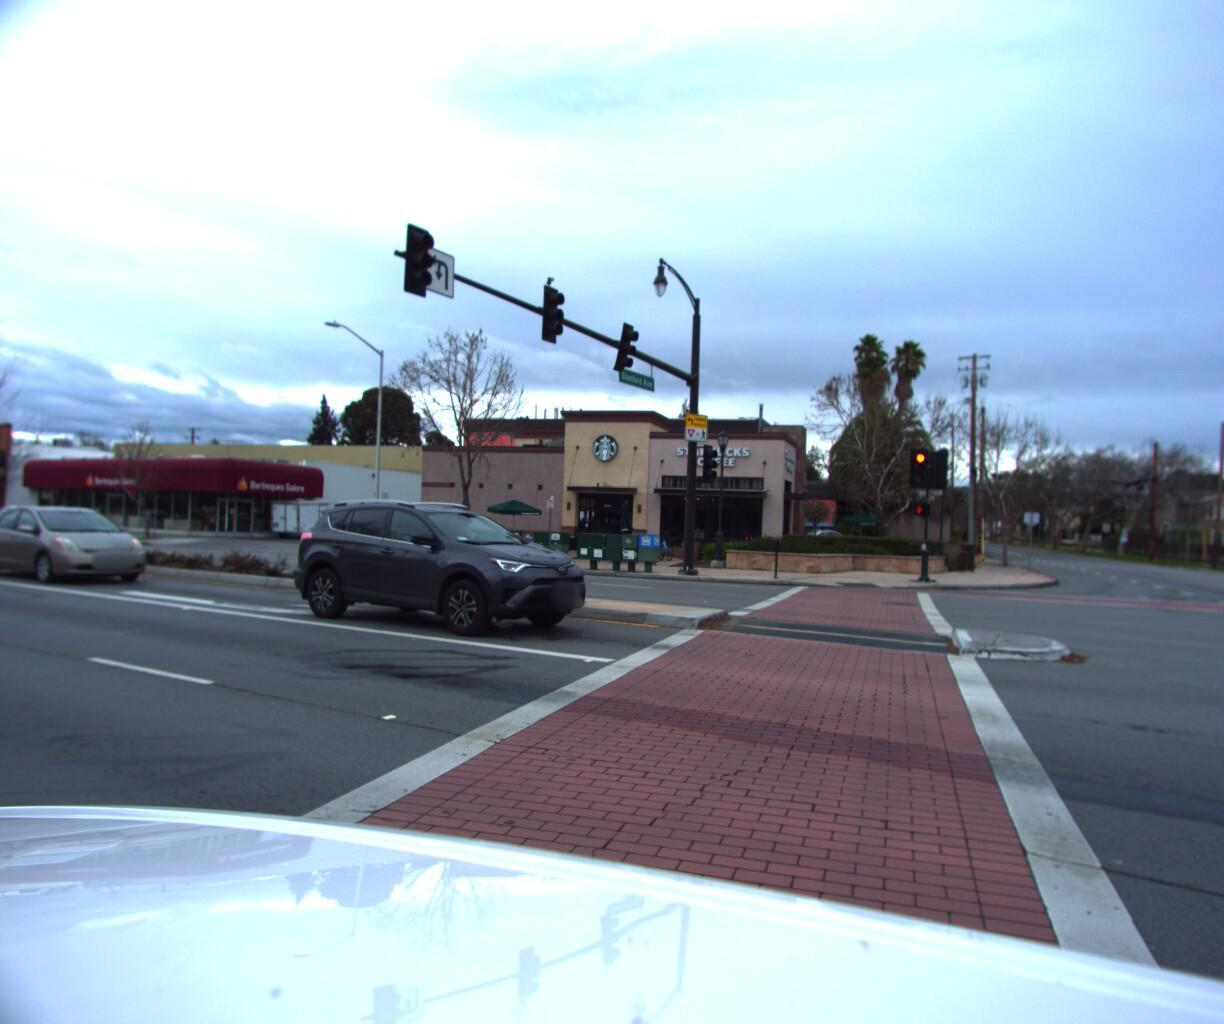car: (276, 496, 620, 648), (0, 504, 169, 589), (0, 505, 64, 543), (0, 504, 9, 536)
other_vehicle: (265, 497, 343, 543)
